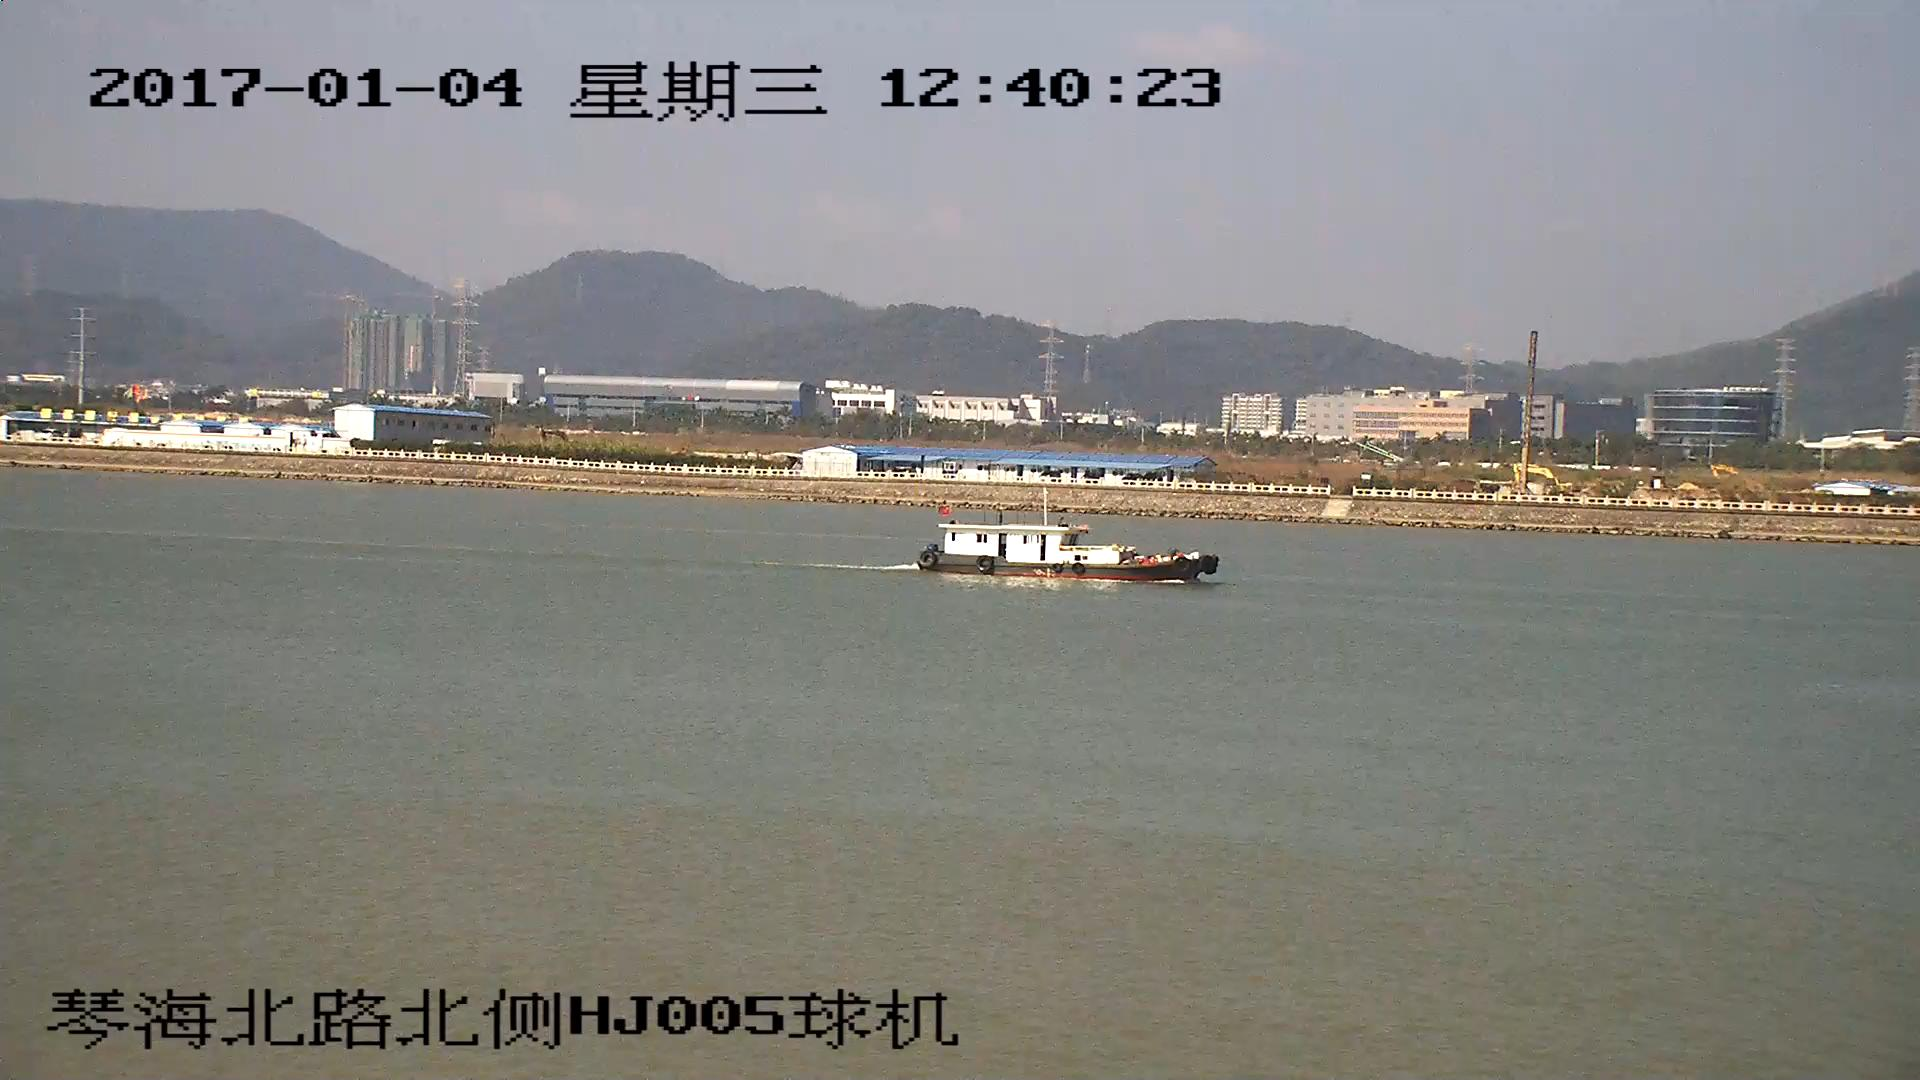fishing boat: (919, 492, 1217, 580)
